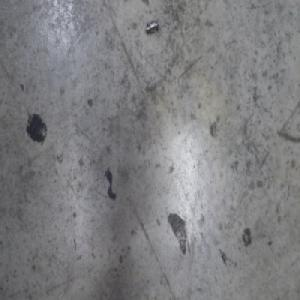Bolt: (145, 17, 160, 35)
